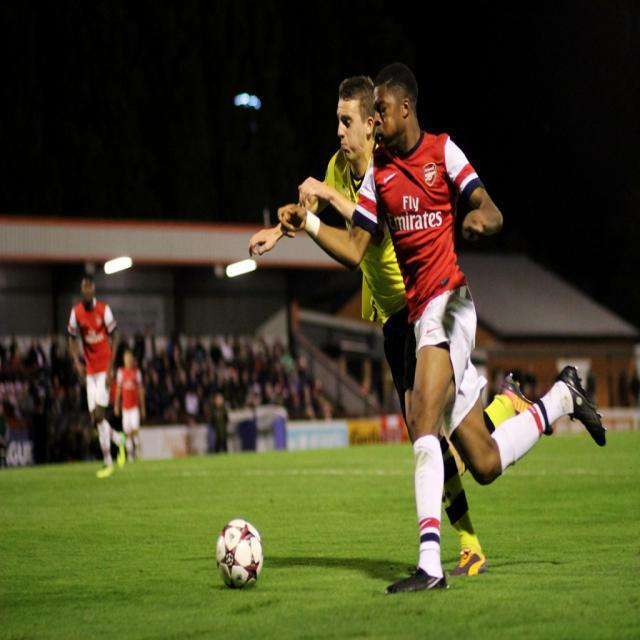football: (209, 494, 279, 591)
